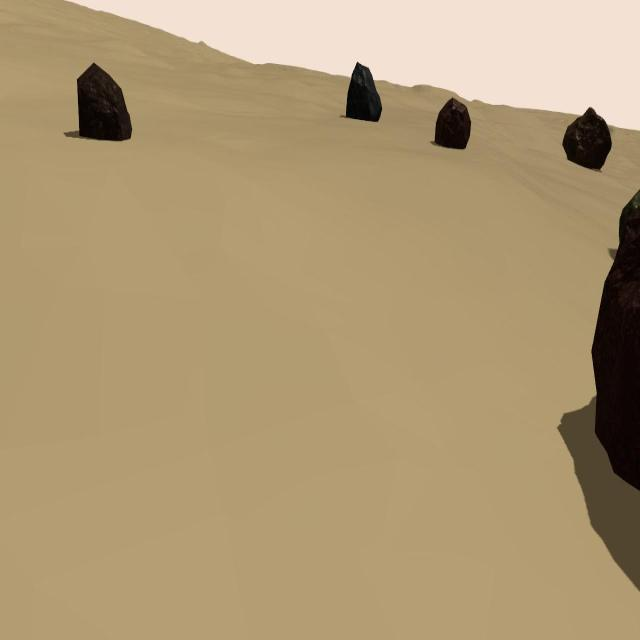rock: (590, 206, 640, 491), (77, 63, 132, 142), (563, 106, 612, 172), (346, 60, 382, 122), (436, 96, 471, 150), (619, 186, 640, 252)
